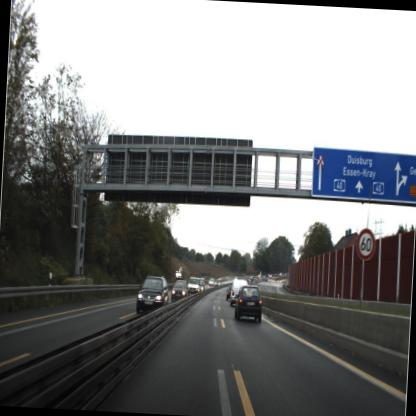prohibitory: (354, 226, 377, 266)
